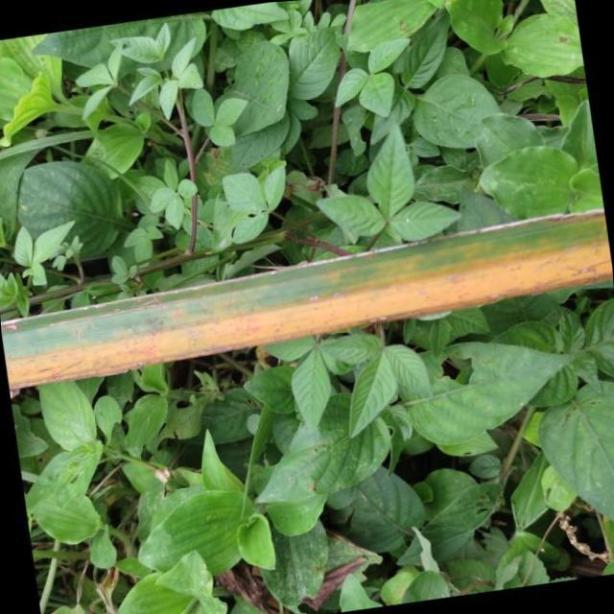Megnesium: (0, 210, 614, 396)
